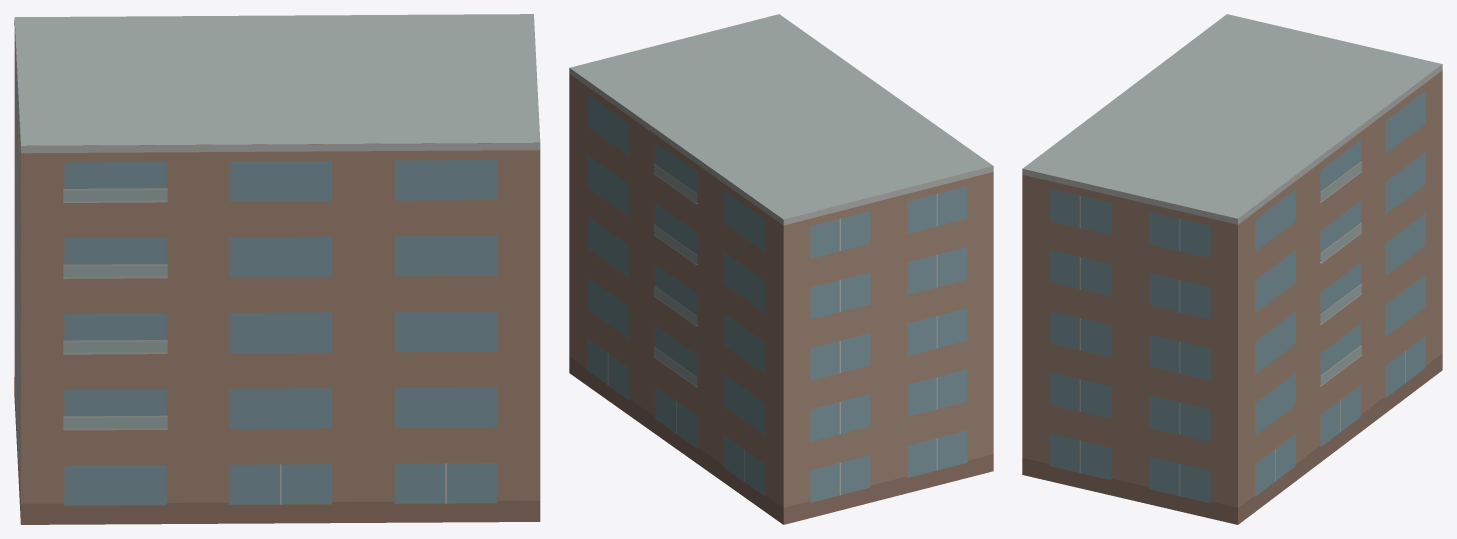
File: survey-upis-32656001.glb
3 views of the same model, side by side, from view 1: azimuth 30°, elevation 25°; view 2: azimuth 150°, elevation 25°; view 3: azimuth 270°, elevation 25° (orthographic). The views are drawn at different scales.
Parts seen in each view (by area): view 1: survey-upis-32656001.tmp; view 2: survey-upis-32656001.tmp; view 3: survey-upis-32656001.tmp.
Boxes of the visible parts, bbox=[...] form: survey-upis-32656001.tmp: bbox=[14, 14, 540, 524]; survey-upis-32656001.tmp: bbox=[569, 14, 993, 524]; survey-upis-32656001.tmp: bbox=[1022, 14, 1442, 524].
Size of the model in its own units: 17.95 by 12.5 by 15.56.
